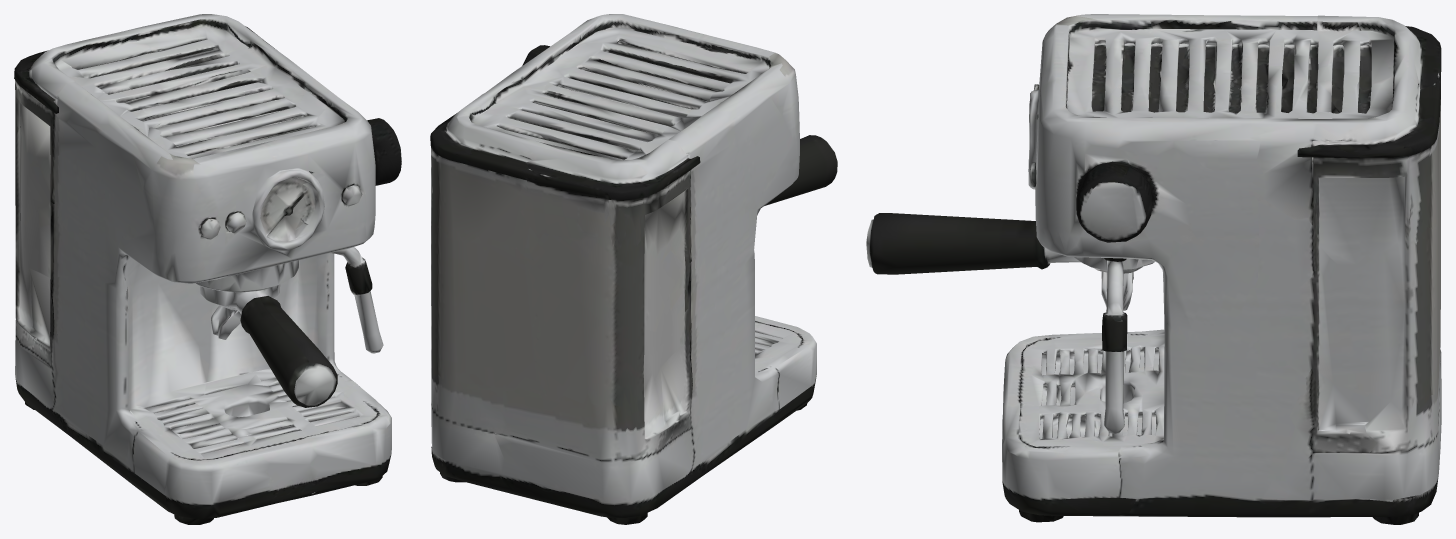
Rendered from espresso.lod1.glb.
3 renders of one model, left to right at view 1: azimuth 30°, elevation 25°; view 2: azimuth 150°, elevation 25°; view 3: azimuth 270°, elevation 25°, orthographic. The views are drawn at different scales.
Visible parts, largest first — view 1: tripo_node_740993a9-1ad1-4f02-b3bd-55c05508e4a9; view 2: tripo_node_740993a9-1ad1-4f02-b3bd-55c05508e4a9; view 3: tripo_node_740993a9-1ad1-4f02-b3bd-55c05508e4a9.
Boxes of the visible parts, x1=… form: tripo_node_740993a9-1ad1-4f02-b3bd-55c05508e4a9: x1=14, y1=14, x2=401, y2=524; tripo_node_740993a9-1ad1-4f02-b3bd-55c05508e4a9: x1=430, y1=14, x2=837, y2=524; tripo_node_740993a9-1ad1-4f02-b3bd-55c05508e4a9: x1=866, y1=14, x2=1441, y2=524.
Bounding box in the file's own units: 0.2472 × 0.3299 × 0.4302.
1 material, 1 textured.
